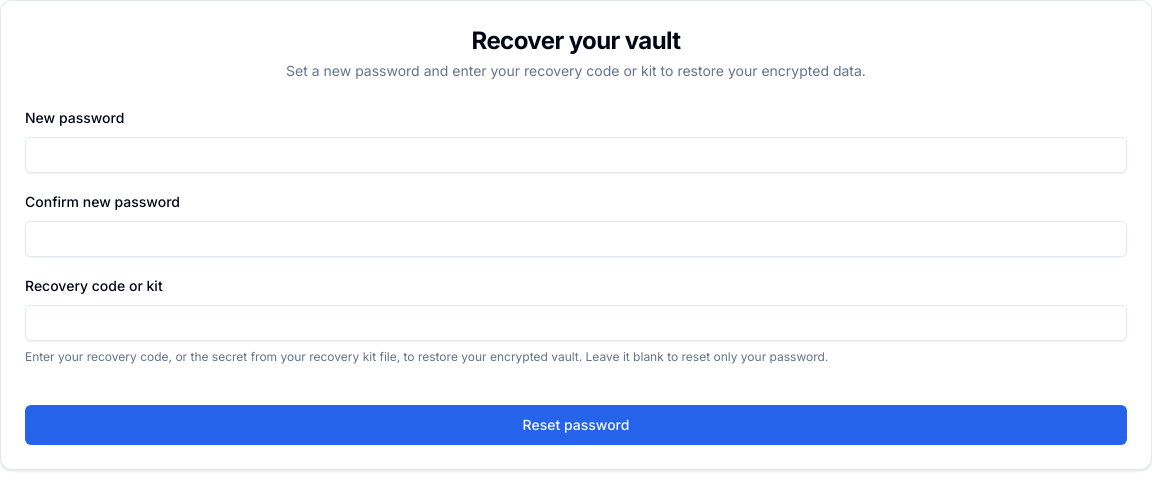
Scenario: the reset page with a passkey that opens the vault › resets without asking when no passkey opens the vault
In the password field labelled "New password": (576, 155) [25,137,1127,173], type "NewPassword789!"
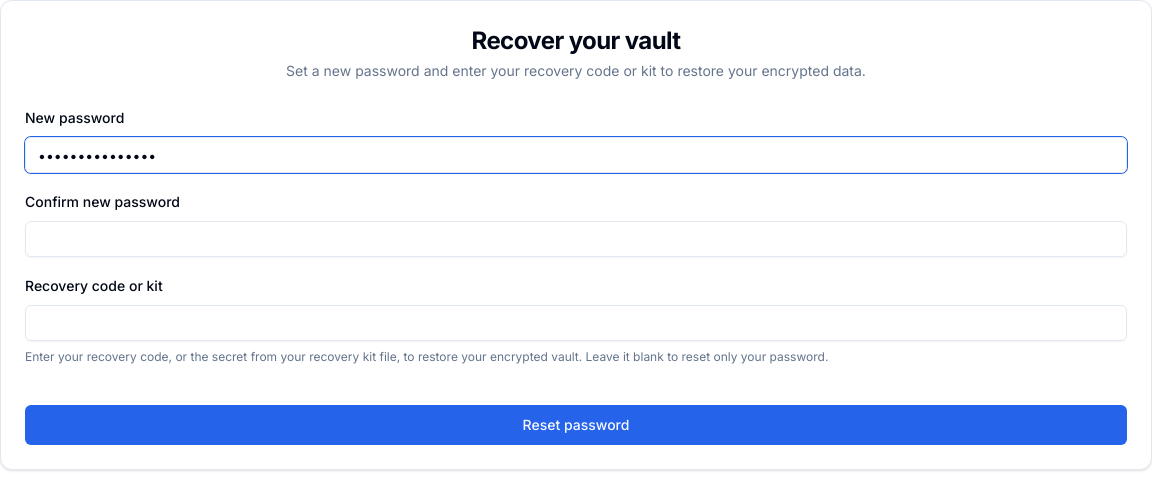
In the password field labelled "Confirm new password": (576, 239) [25,221,1127,257], type "NewPassword789!"
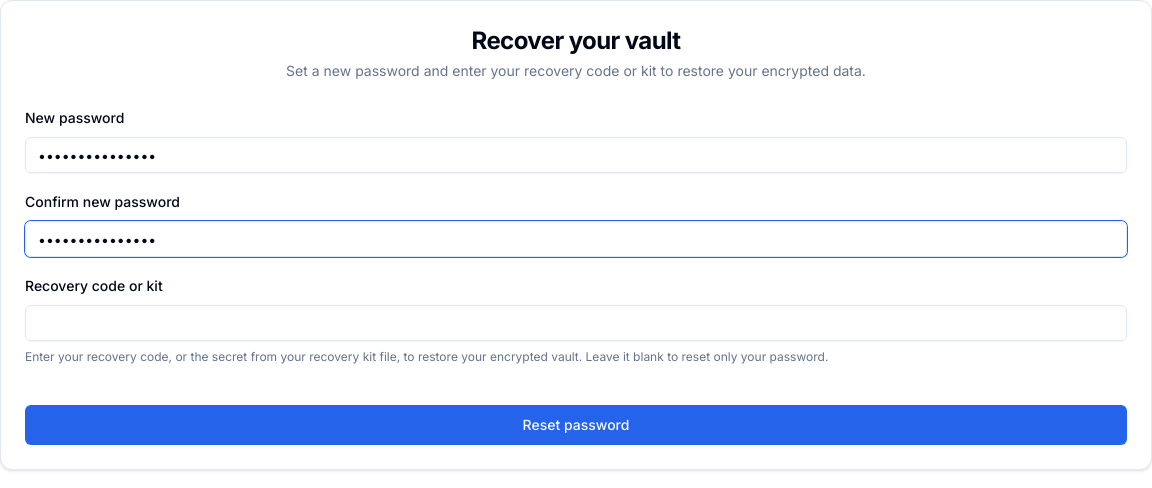
Click the button "Reset password": (576, 425) [25,405,1127,445]
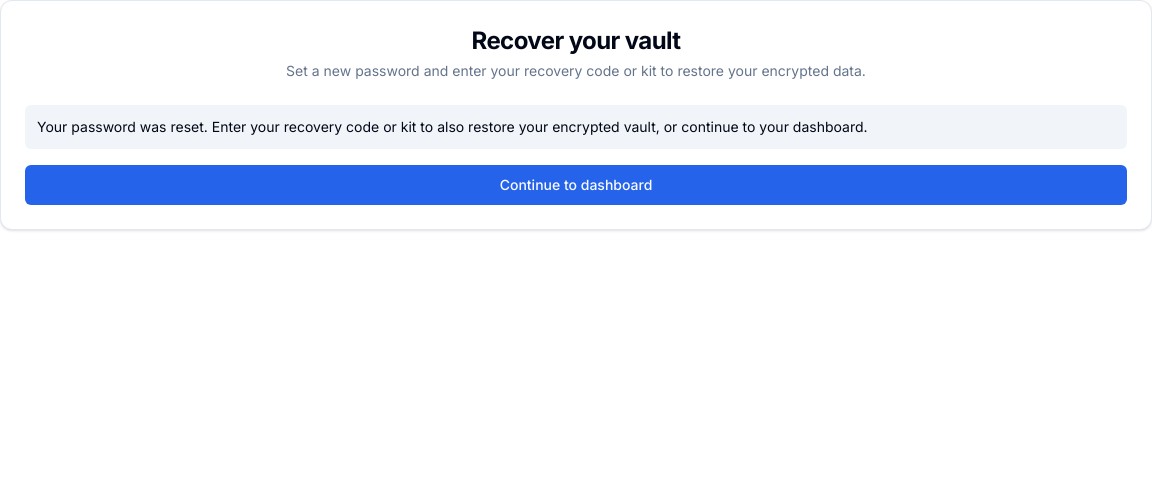
Check: the text "Enter your recovery code or kit to also restore" is shown, box [37,118,868,135]
